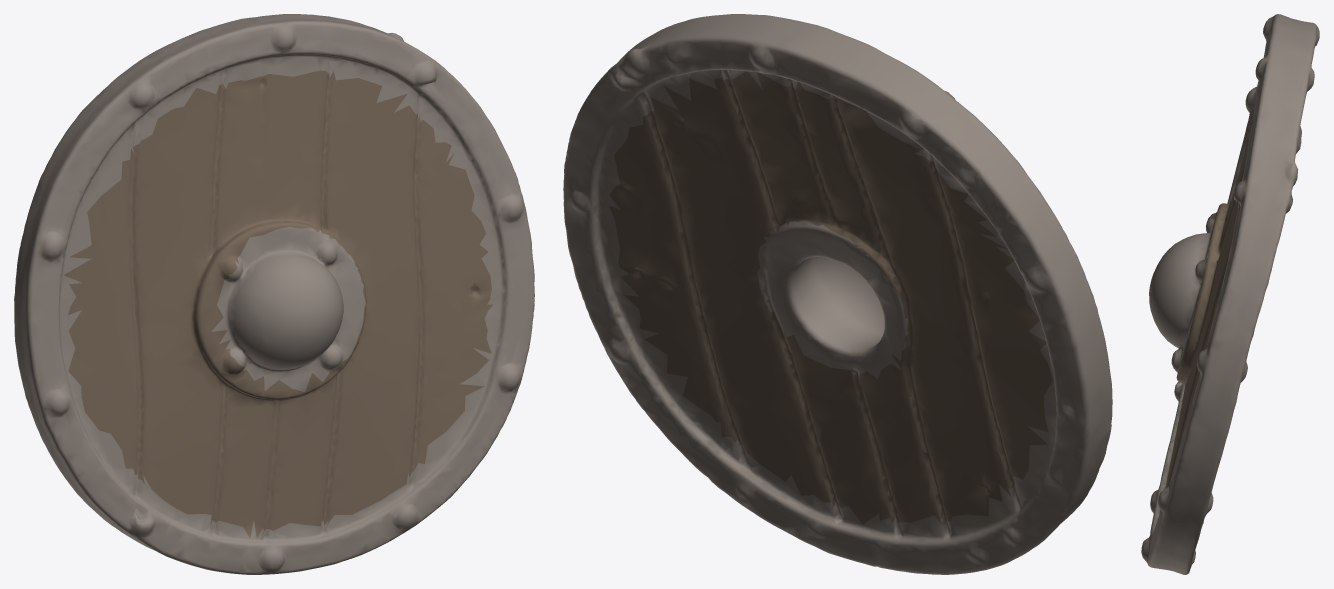
The model's file is escudo_redondo.glb.
The picture shows the model from 3 angles, left to right: view 1: azimuth 30°, elevation 25°; view 2: azimuth 150°, elevation 25°; view 3: azimuth 270°, elevation 25°; orthographic projection. The views are drawn at different scales.
Visible parts, largest first — view 1: tmpltzsm_3i.ply; view 2: tmpltzsm_3i.ply; view 3: tmpltzsm_3i.ply.
Boxes of the visible parts, x1=… form: tmpltzsm_3i.ply: x1=14, y1=14, x2=534, y2=574; tmpltzsm_3i.ply: x1=563, y1=14, x2=1112, y2=574; tmpltzsm_3i.ply: x1=1141, y1=14, x2=1319, y2=574.
Size of the model in its own units: 1.96 by 1.96 by 0.6297.
